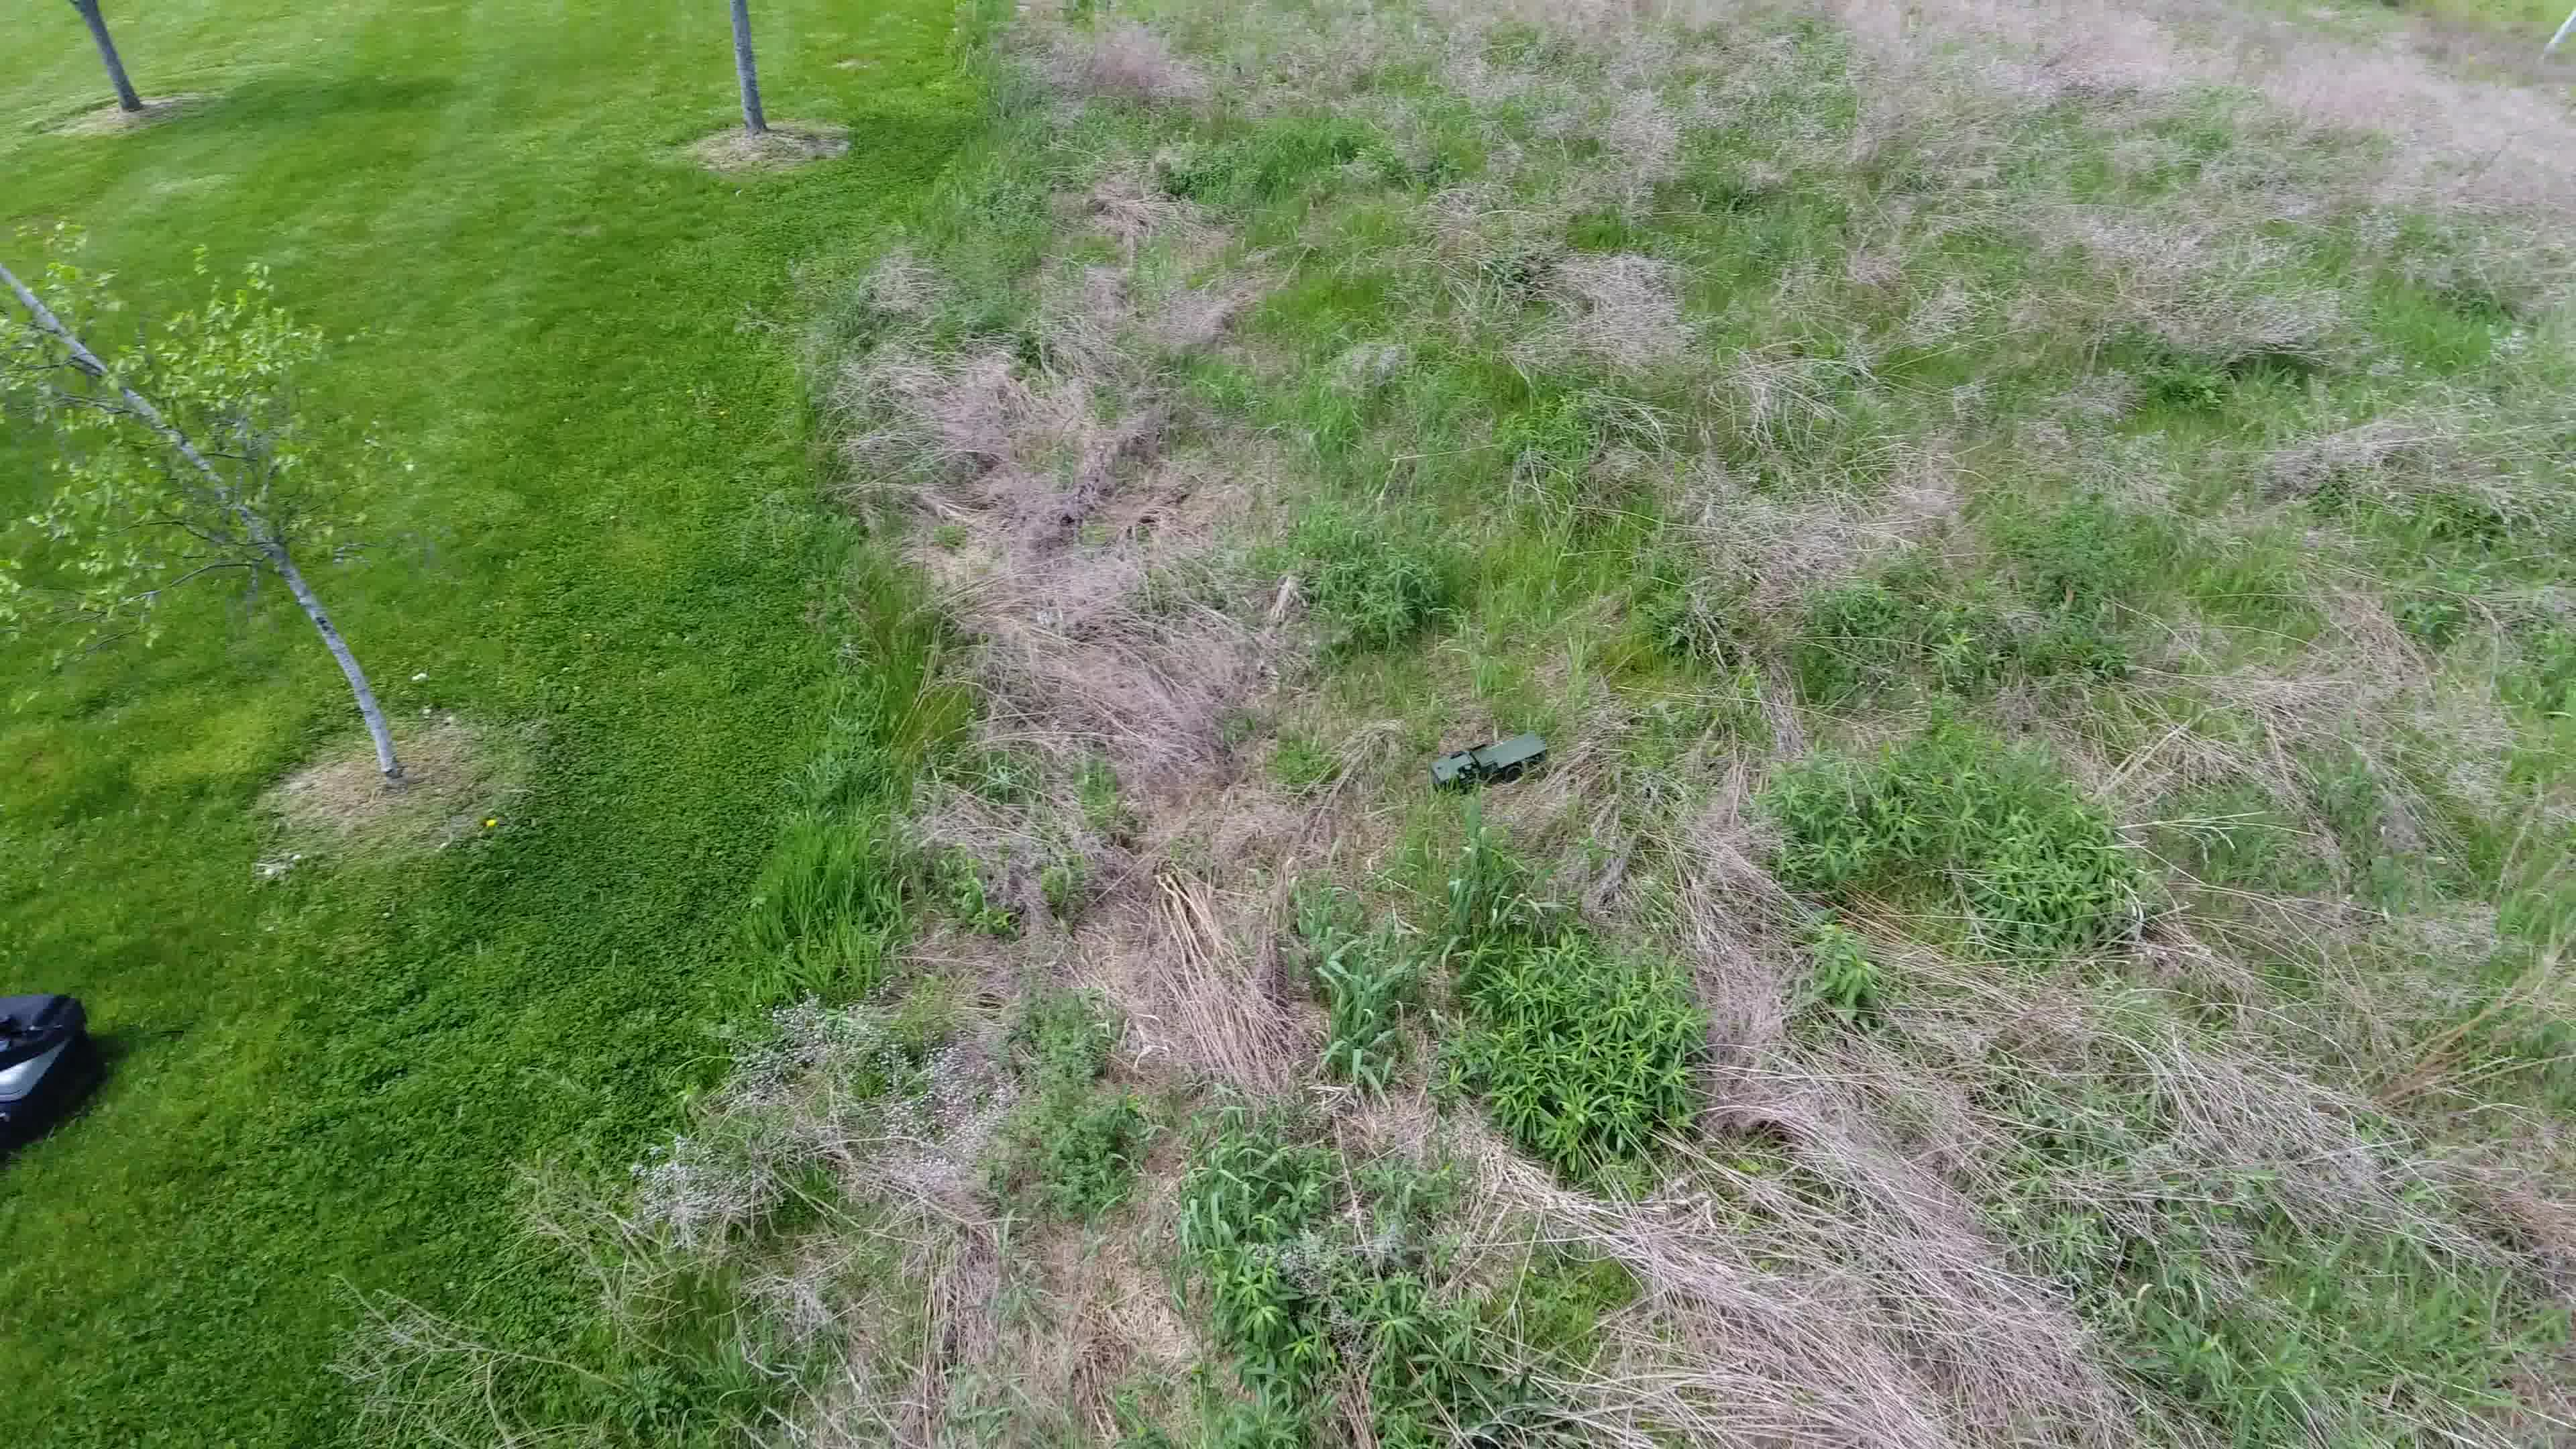transporter9: (1426, 720, 1550, 796)
